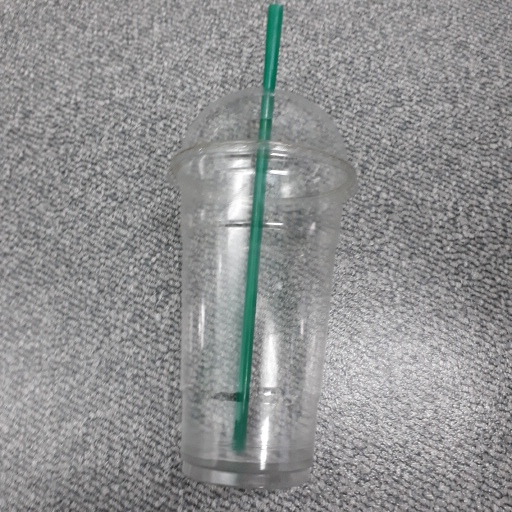Plastic_2: (167, 6, 362, 489)
